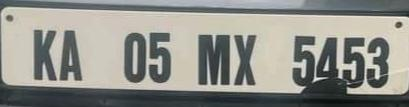0: (121, 26, 147, 87)
3: (367, 32, 392, 91)
5: (288, 29, 316, 91), (148, 26, 173, 86), (343, 30, 366, 93)
A: (58, 21, 90, 86)
K: (28, 23, 58, 85)
M: (196, 31, 233, 89)
X: (232, 32, 261, 90)
